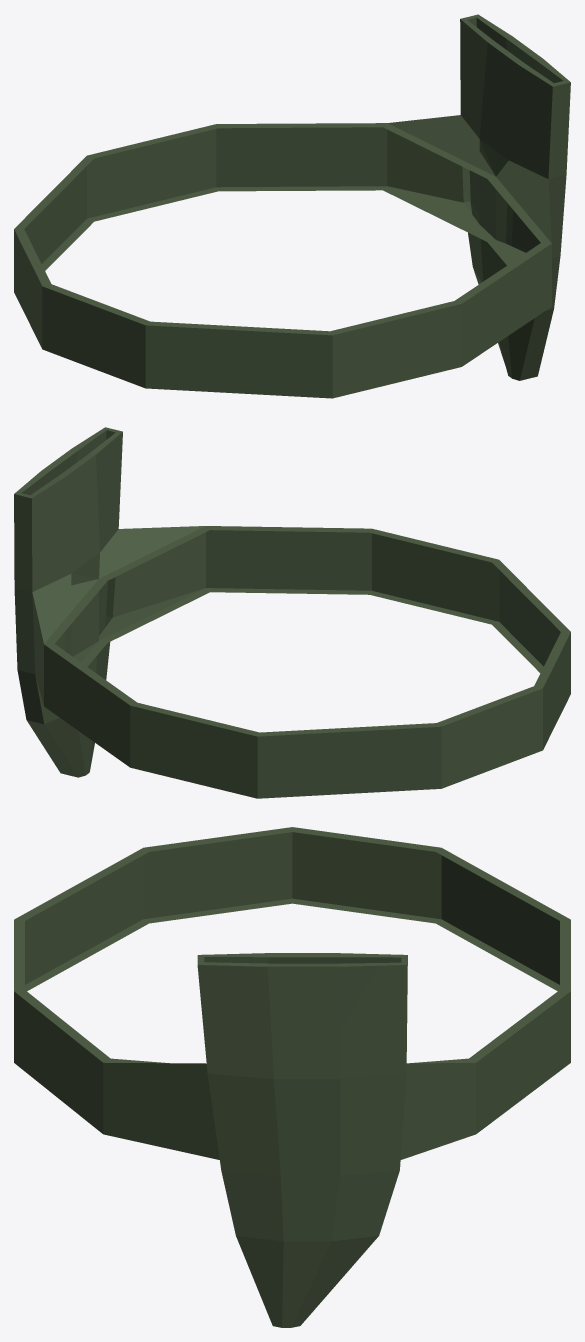
File: Knife Holster03.fbx
3 views of the same model, one above another, from view 1: azimuth 30°, elevation 25°; view 2: azimuth 150°, elevation 25°; view 3: azimuth 270°, elevation 25° (orthographic). The views are drawn at different scales.
Visible parts, largest first — view 1: Knife Holster.001; view 2: Knife Holster.001; view 3: Knife Holster.001.
Boxes of the visible parts, bbox=[...] form: Knife Holster.001: bbox=[14, 14, 570, 398]; Knife Holster.001: bbox=[14, 427, 570, 798]; Knife Holster.001: bbox=[14, 827, 570, 1327].
Size of the model in its own units: 0.2217 by 0.1358 by 0.1897.
